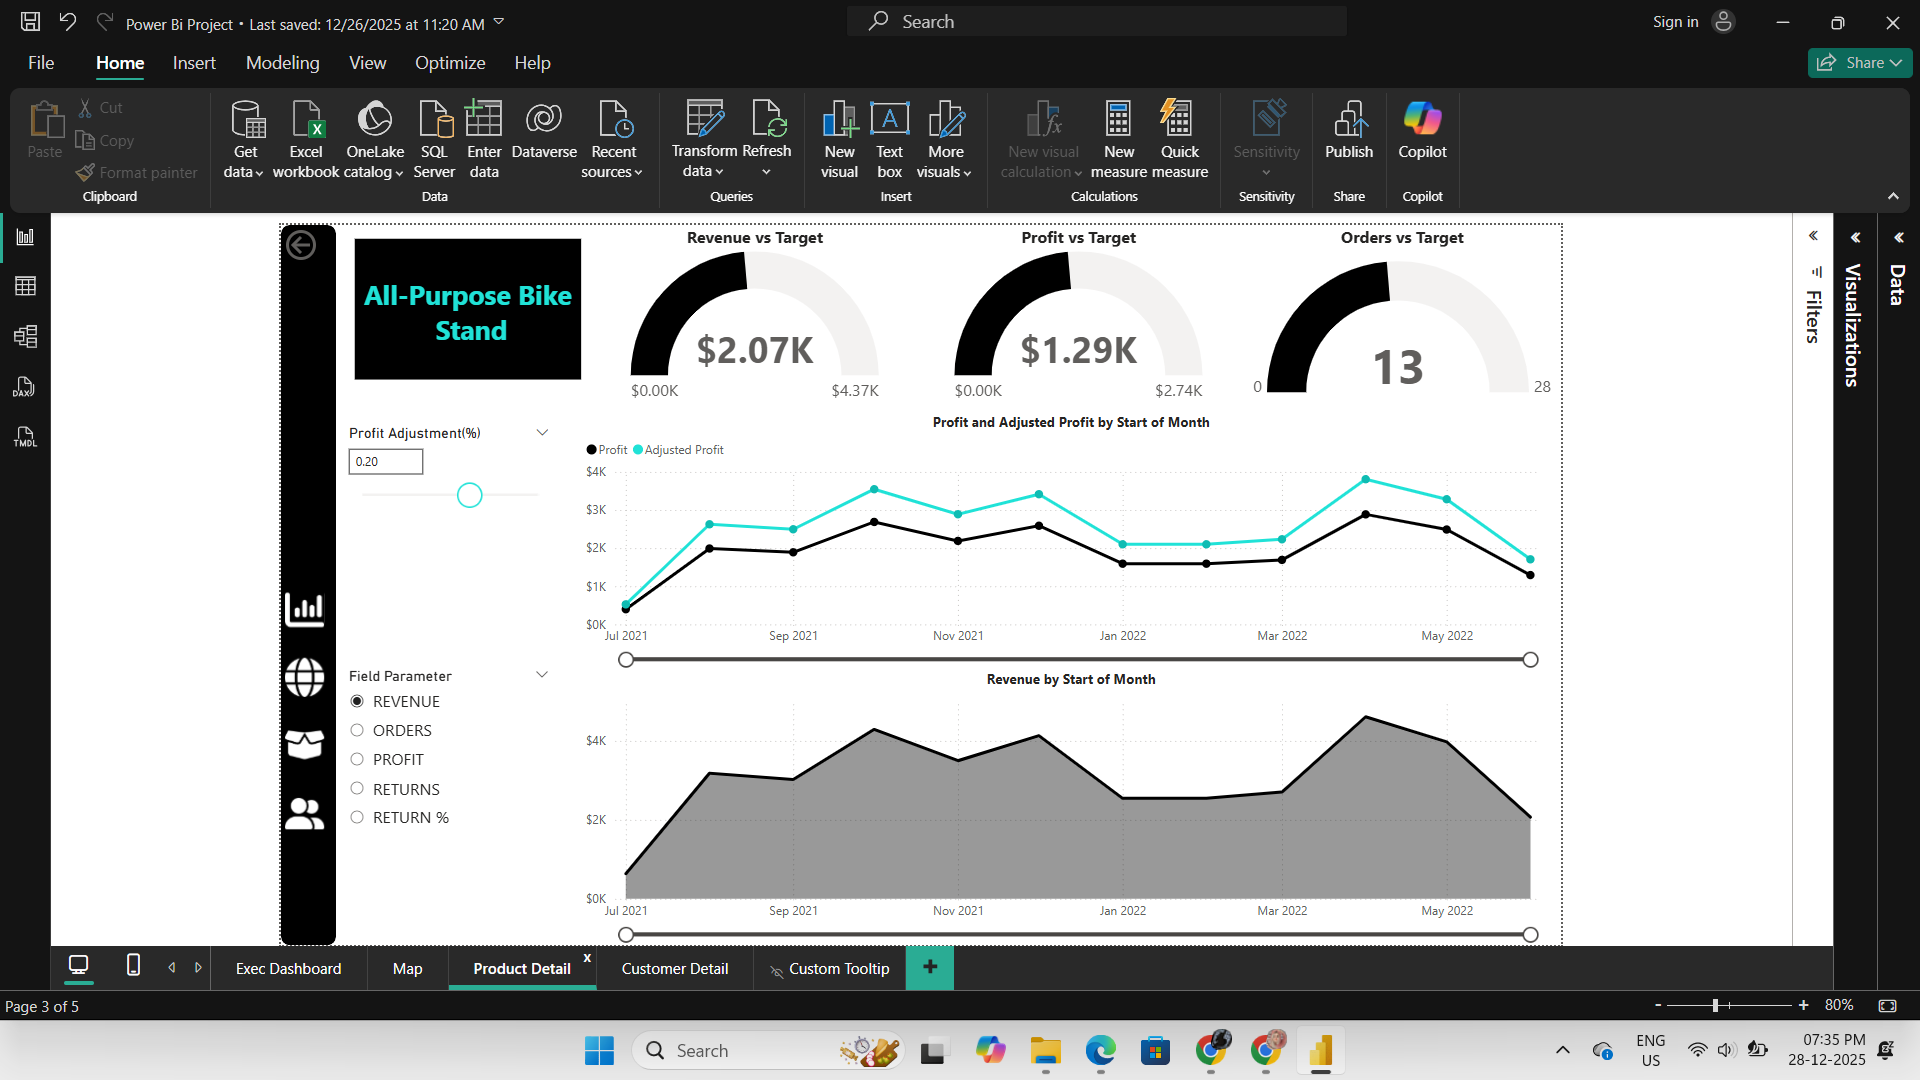

The page's visual inventory and layout, read from the dashboard file:
{"tool":"powerbi","page":{"name":"Product Detail","canvas":[1280,720],"ordinal":2},"visuals":[{"type":"shape","box":[0,0,55,720.3],"z":0},{"type":"gauge","title":"Revenue vs Target","fields":{"Y":["Measure Table.Total Revenue"],"MaxValue":["Measure Table.Revenue Target"]},"box":[314.5,0,317.8,187.1],"z":1000},{"type":"gauge","title":"Profit vs Target","fields":{"Y":["Sales Data.Total Profit"],"MaxValue":["Measure Table.Profit Target"]},"box":[638.5,0,317.8,187.1],"z":2000},{"type":"gauge","title":"Orders vs Target","fields":{"Y":["Measure Table.Total Orders"],"MaxValue":["Measure Table.Order Target"]},"box":[962.2,0,317.8,187.1],"z":3000},{"type":"lineChart","fields":{"Category":["Calendar Lookup.Data Hierarchy.Start of Year","Calendar Lookup.Data Hierarchy.Start of Month","Calendar Lookup.Data Hierarchy.Start of Week"],"Y":["Sales Data.Total Profit","Measure Table.Adjusted Profit"]},"box":[299.8,187.1,980.6,258.1],"z":4000},{"type":"areaChart","title":"Revenue by Start of Month","fields":{"Y":["Measure Table.Total Revenue"],"Category":["Calendar Lookup.Data Hierarchy.Start of Year","Calendar Lookup.Data Hierarchy.Start of Month","Calendar Lookup.Data Hierarchy.Start of Week"]},"box":[299.8,445.2,980.6,275],"z":5000},{"type":"card","fields":{"Values":["Min(Product Lookup.ProductName)"]},"box":[73.4,13.7,226.4,140.6],"z":6000},{"type":"actionButton","box":[0,0,100,40],"z":7000},{"type":"actionButton","box":[0,360.7,54.7,47.3],"z":8000},{"type":"actionButton","box":[0,428.8,54.7,47.3],"z":9000},{"type":"actionButton","box":[0,496.8,54.7,47.3],"z":10000},{"type":"actionButton","box":[0,564.8,54.7,47.3],"z":11000},{"type":"slicer","fields":{"Values":["Profit Adjustment(%).Profit Adjustment(%)"]},"box":[54.7,195.3,225.2,242.6],"z":12000},{"type":"slicer","fields":{"Values":["Field Parameter.Field Parameter"]},"box":[55,438,225,282],"z":13000}]}

Visuals, with their boxes on the page's 1280x720 design canvas (x1, y1, x2, y2). These are canvas units, not pixel positions in the 1920x1080 screenshot, which may show the page scaled, cropped or inside an application window:
shape: Rect(0, 0, 55, 720)
"Revenue vs Target" gauge: Rect(314, 0, 632, 187)
"Profit vs Target" gauge: Rect(638, 0, 956, 187)
"Orders vs Target" gauge: Rect(962, 0, 1280, 187)
lineChart - Calendar Lookup.Data Hierarchy.Start of Year x Calendar Lookup.Data Hierarchy.Start of Month: Rect(300, 187, 1280, 445)
"Revenue by Start of Month" areaChart: Rect(300, 445, 1280, 720)
card - Min(Product Lookup.ProductName): Rect(73, 14, 300, 154)
actionButton: Rect(0, 0, 100, 40)
actionButton: Rect(0, 361, 55, 408)
actionButton: Rect(0, 429, 55, 476)
actionButton: Rect(0, 497, 55, 544)
actionButton: Rect(0, 565, 55, 612)
slicer - Profit Adjustment(%).Profit Adjustment(%): Rect(55, 195, 280, 438)
slicer - Field Parameter.Field Parameter: Rect(55, 438, 280, 720)
